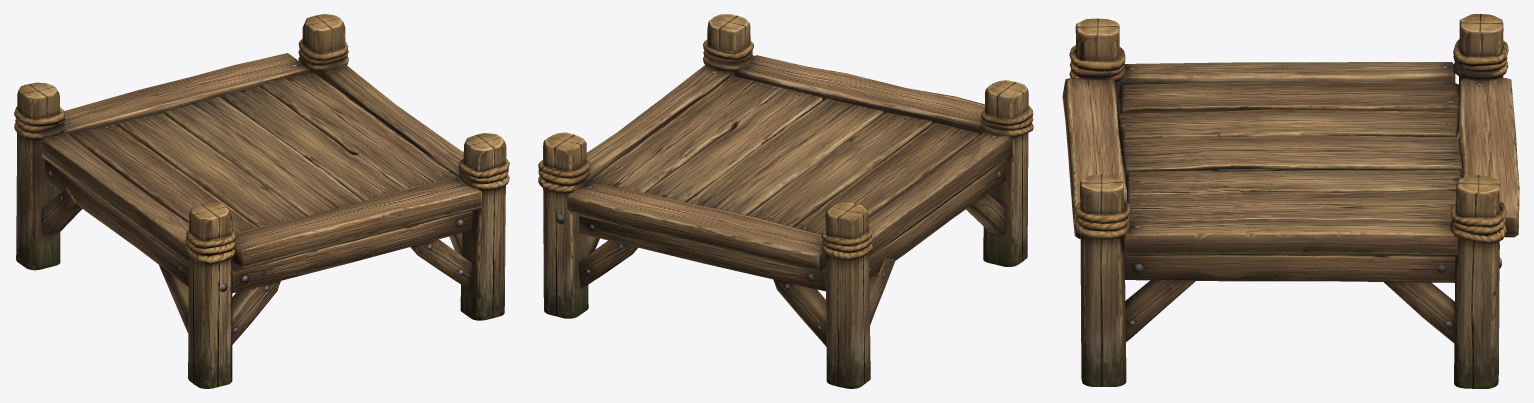
Rendered from platform.glb.
3 renders of one model, left to right at view 1: azimuth 30°, elevation 25°; view 2: azimuth 150°, elevation 25°; view 3: azimuth 270°, elevation 25°, orthographic. The views are drawn at different scales.
Visible parts, largest first — view 1: tripo_node_4177f347-9257-41a7-a3e7-12bb3fcee338; view 2: tripo_node_4177f347-9257-41a7-a3e7-12bb3fcee338; view 3: tripo_node_4177f347-9257-41a7-a3e7-12bb3fcee338.
Boxes of the visible parts, x1,y1,x2,y2 form: tripo_node_4177f347-9257-41a7-a3e7-12bb3fcee338: [14, 14, 509, 388]; tripo_node_4177f347-9257-41a7-a3e7-12bb3fcee338: [538, 14, 1033, 388]; tripo_node_4177f347-9257-41a7-a3e7-12bb3fcee338: [1062, 14, 1519, 388].
Size of the model in its own units: 0.9517 by 0.4751 by 0.9995.
1 material, 1 textured.
